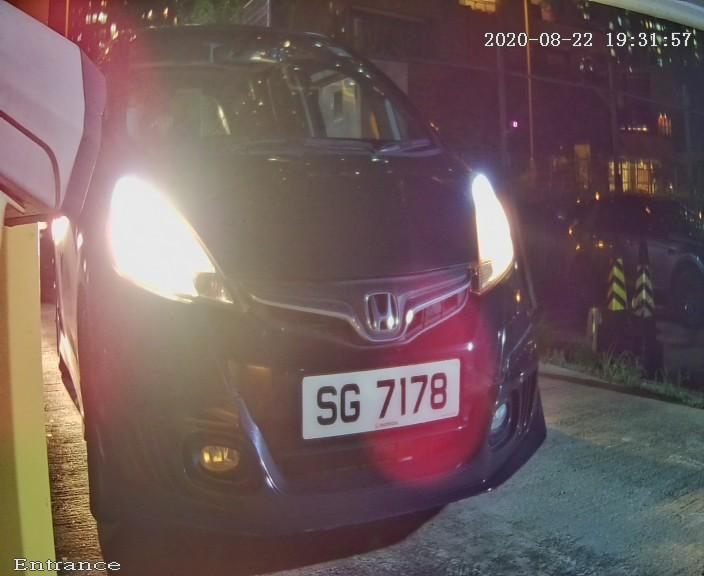License Plate: (270, 340, 497, 459)
